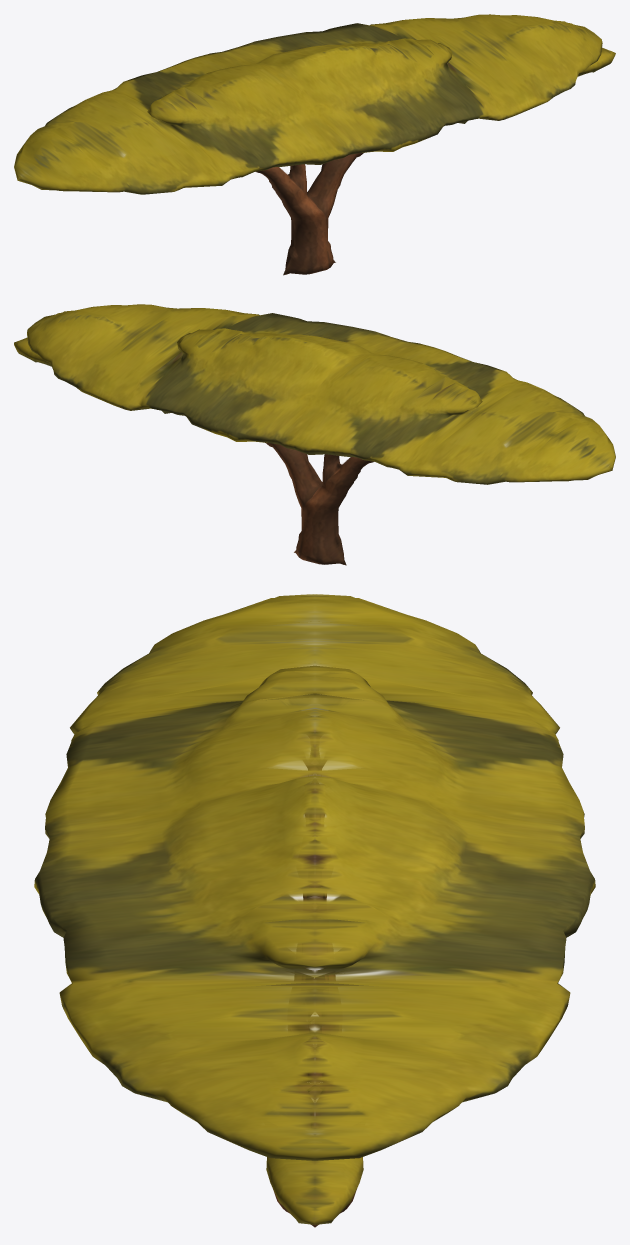
Rendered from 25_trees_d_r00_c00.glb.
The picture shows the model from 3 angles, top to bottom: view 1: azimuth 30°, elevation 25°; view 2: azimuth 150°, elevation 25°; view 3: azimuth 270°, elevation 25°; orthographic projection. The views are drawn at different scales.
Parts seen in each view (by area): view 1: 25_trees_d_r00_c00; view 2: 25_trees_d_r00_c00; view 3: 25_trees_d_r00_c00.
Boxes of the visible parts, x1=… form: 25_trees_d_r00_c00: x1=14, y1=14, x2=615, y2=275; 25_trees_d_r00_c00: x1=14, y1=304, x2=615, y2=565; 25_trees_d_r00_c00: x1=34, y1=594, x2=595, y2=1227.
Bounding box in the file's own units: 8.96 × 3.06 × 3.64.
Materials: 1 (1 with a texture image).
